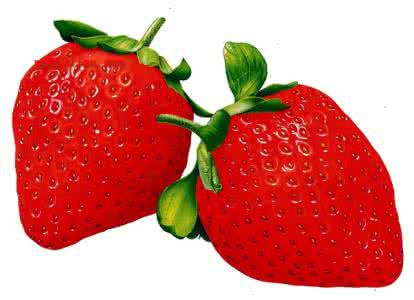strawberry: (190, 59, 406, 288), (10, 10, 194, 248)
